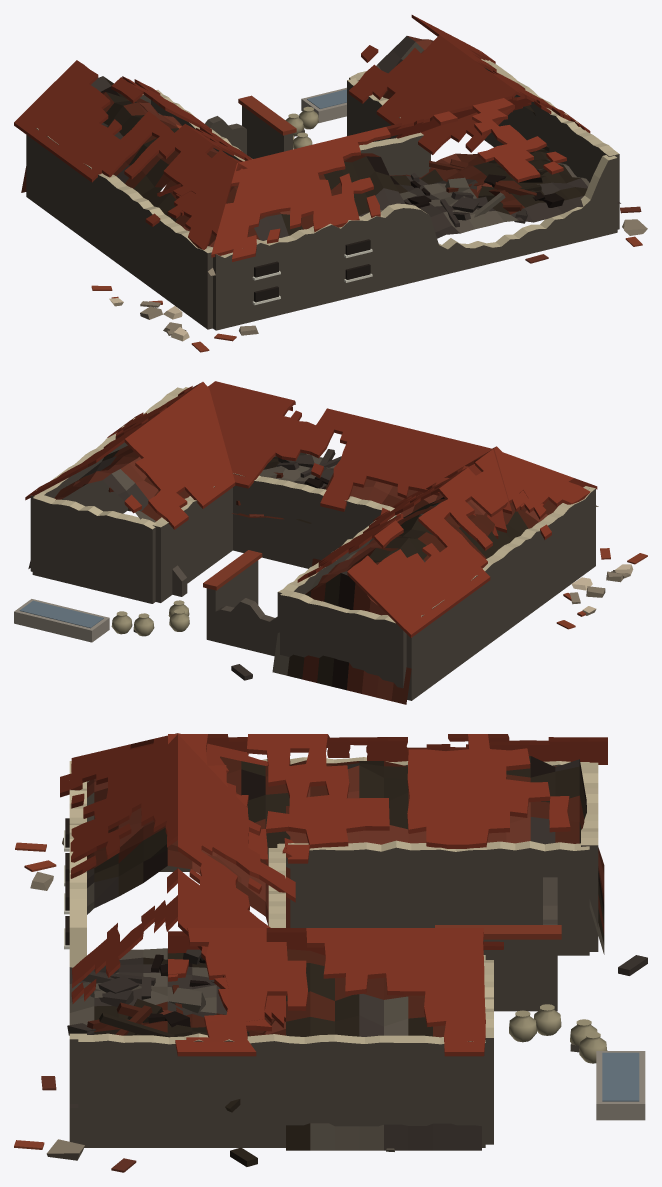
Rendered from VerBuild01a.glb.
The picture shows the model from 3 angles, top to bottom: view 1: azimuth 30°, elevation 25°; view 2: azimuth 150°, elevation 25°; view 3: azimuth 270°, elevation 25°; orthographic projection. The views are drawn at different scales.
Parts seen in each view (by area): view 1: VerBuild01a_roof; view 2: VerBuild01a_roof; view 3: VerBuild01a_roof.
Part boxes in pixels (x1=…): VerBuild01a_roof: x1=14, y1=15, x2=647, y2=352; VerBuild01a_roof: x1=14, y1=381, x2=647, y2=704; VerBuild01a_roof: x1=14, y1=733, x2=647, y2=1172.
Size of the model in its own units: 16.95 by 4.09 by 13.3.
